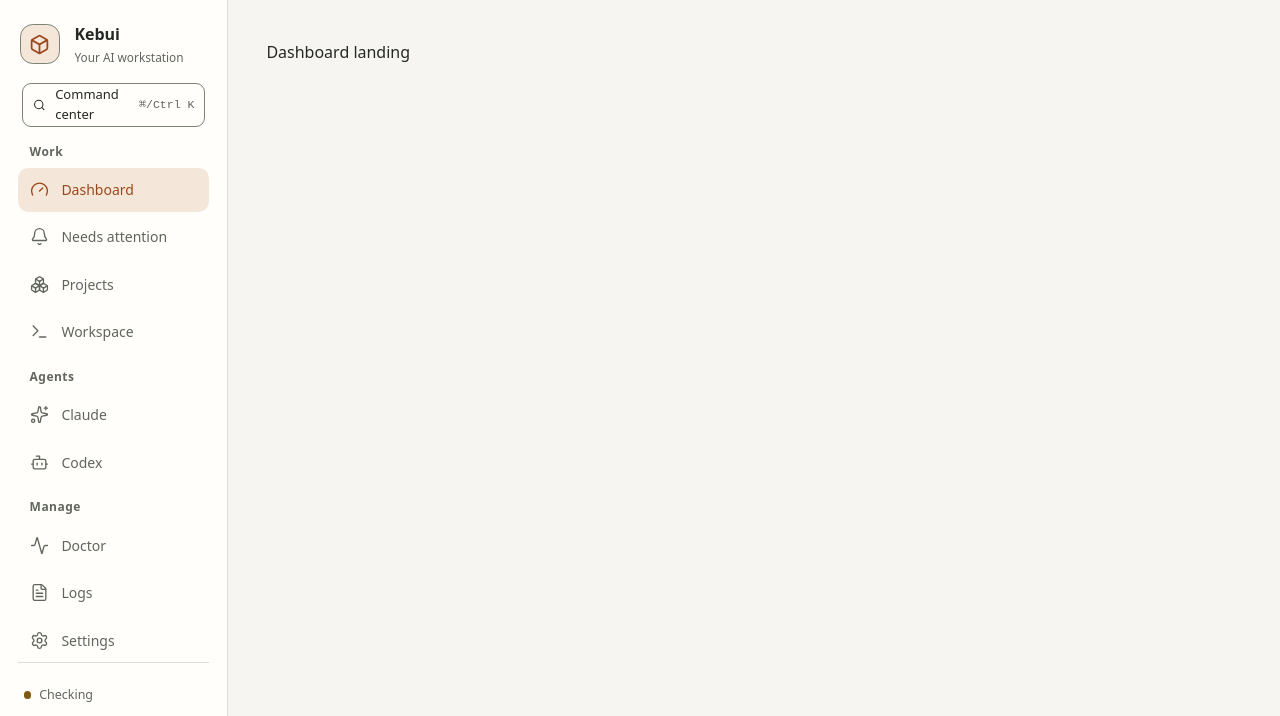
Scenario: Command center › keeps page navigation available on Project read failure and closes on Escape
This screenshot has width=1280, height=716.
Press k
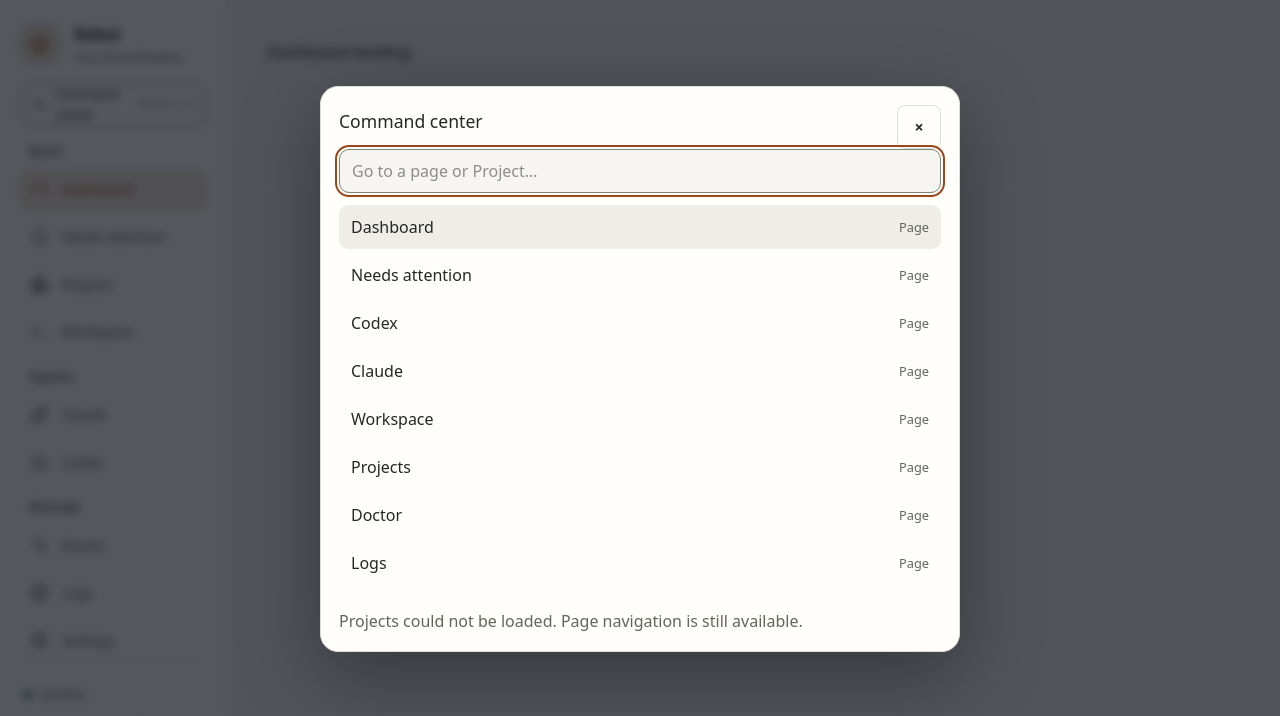
Expected: the message shows "Projects could not be loaded", [339,610,803,632]
Type "attention" into the dropdown named "Search pages and Projects". click: point(640, 171)
box: [339,149,941,193]
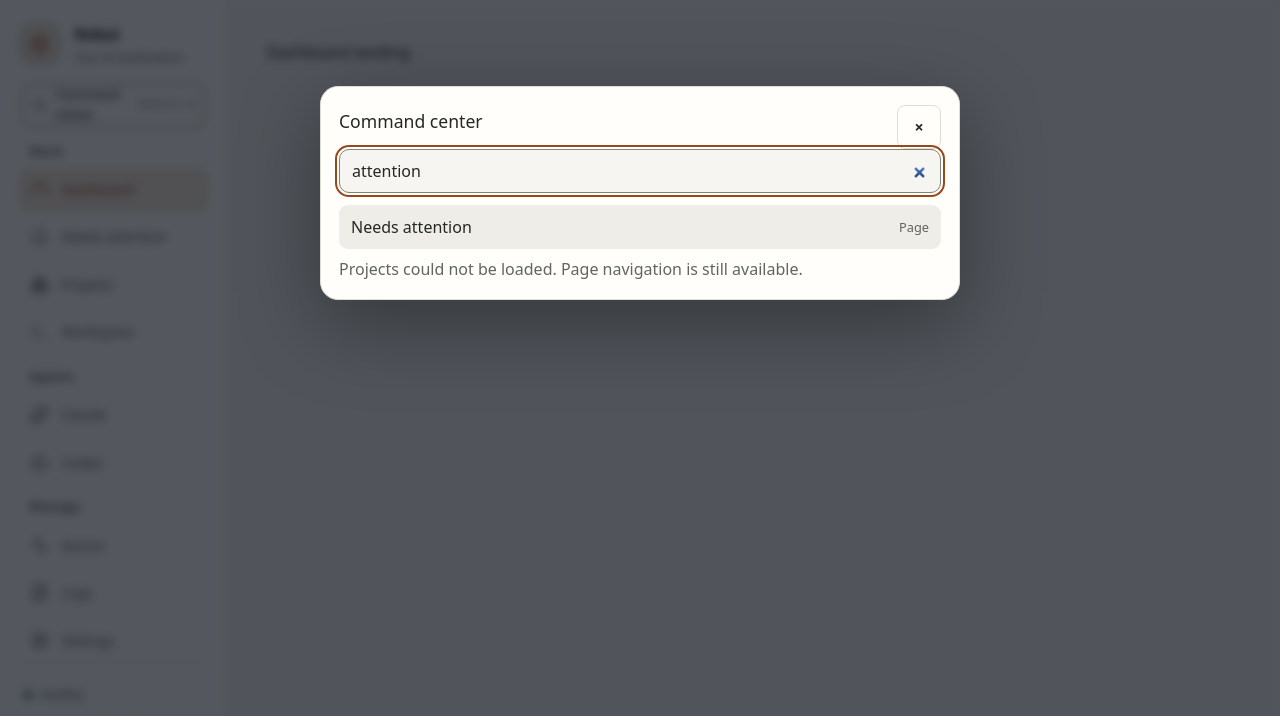
Expected: the option "Needs attention Page" is shown, [339,205,941,249]
Press Escape in the dropdown named "Search pages and Projects", box [339,149,941,193]
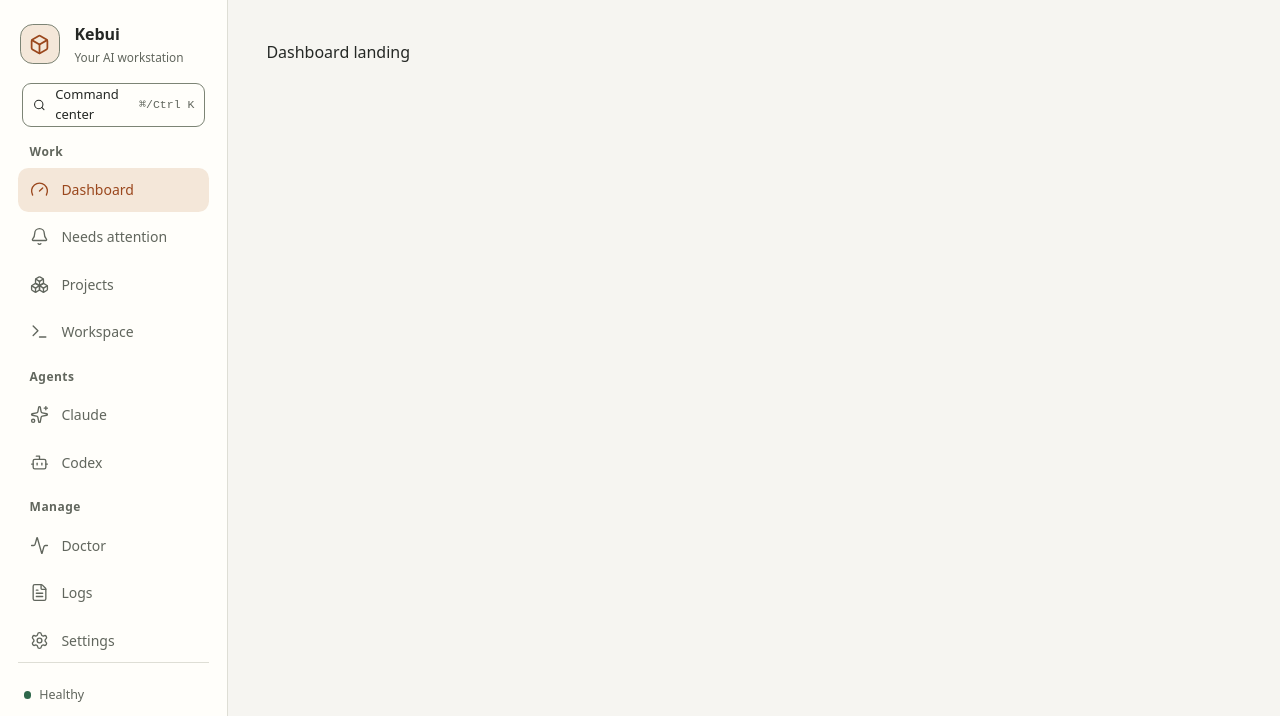
Expected: the dialog is gone
